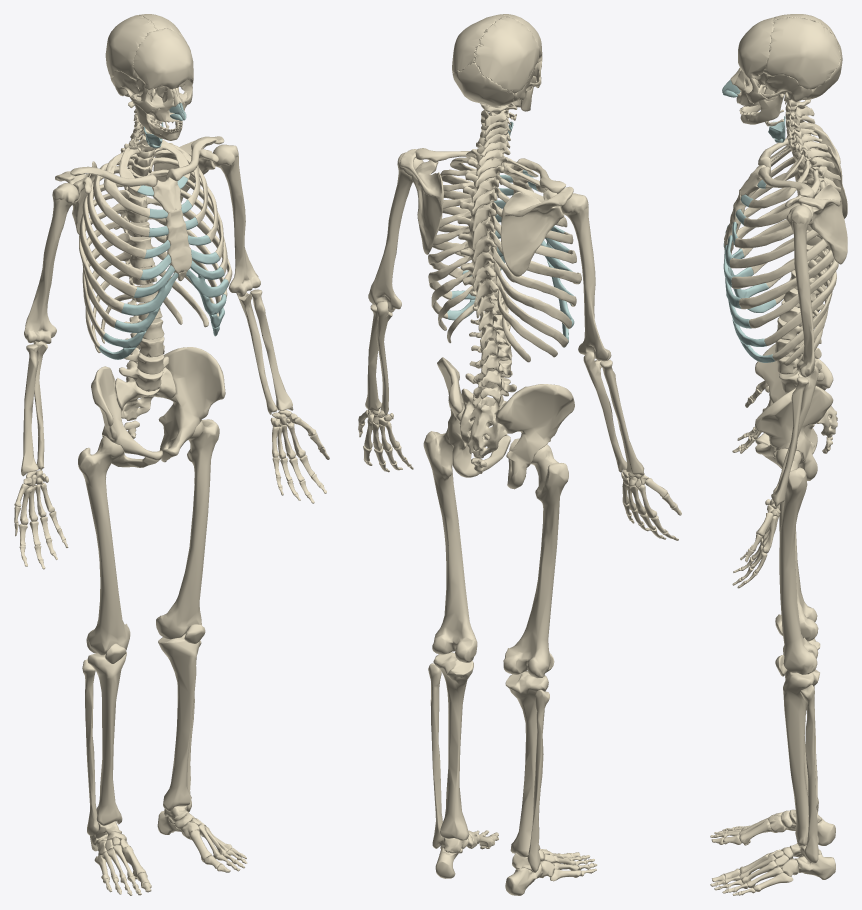
Rendered from skeleton.glb.
3 renders of one model, left to right at view 1: azimuth 30°, elevation 25°; view 2: azimuth 150°, elevation 25°; view 3: azimuth 270°, elevation 25°, orthographic. The views are drawn at different scales.
Visible parts, largest first — view 1: femur-right, femur-left, hip-bone-left, tibia-left, frontal-bone, tibia-right, humerus-right, humerus-left, hip-bone-right, parietal-bone-right, sacrum, fibula-right (+19 smaller); view 2: femur-right, femur-left, hip-bone-right, scapula-right, parietal-bone-right, tibia-left, tibia-right, humerus-right, humerus-left, hip-bone-left, scapula-left, sacrum (+15 smaller); view 3: femur-left, parietal-bone-left, tibia-left, hip-bone-left, humerus-left, scapula-left, fibula-left, frontal-bone, hip-bone-right, radius-left, femur-right, seventh-rib-left (+28 smaller).
Boxes of the visible parts, x1,y1,x2,y2 form: femur-right: (78, 436, 130, 655); femur-left: (156, 419, 219, 639); hip-bone-left: (158, 347, 225, 462); tibia-left: (158, 633, 200, 811); frontal-bone: (133, 28, 193, 91); tibia-right: (87, 652, 126, 825); humerus-right: (24, 183, 78, 343); humerus-left: (212, 144, 260, 296); hip-bone-right: (91, 366, 162, 467); parietal-bone-right: (105, 15, 157, 79); sacrum: (115, 367, 175, 420); fibula-right: (82, 659, 98, 835); femur-right: (503, 444, 568, 678); femur-left: (423, 427, 477, 662); hip-bone-right: (495, 384, 574, 489); scapula-right: (500, 186, 573, 276); parietal-bone-right: (474, 16, 539, 93); tibia-left: (433, 652, 473, 840); tibia-right: (505, 671, 548, 857); humerus-right: (561, 193, 611, 361); humerus-left: (368, 152, 423, 312); hip-bone-left: (437, 357, 510, 477); scapula-left: (400, 149, 443, 254); sacrum: (459, 388, 507, 458); femur-left: (775, 448, 818, 674); parietal-bone-left: (763, 17, 840, 89); tibia-left: (783, 669, 819, 846); hip-bone-left: (755, 386, 833, 480); humerus-left: (786, 205, 815, 377); scapula-left: (785, 183, 847, 264); fibula-left: (800, 684, 818, 863); frontal-bone: (738, 17, 774, 78); hip-bone-right: (755, 344, 833, 453); radius-left: (771, 377, 808, 506); femur-right: (779, 470, 818, 641); seventh-rib-left: (739, 249, 834, 309).
Bounding box in the file's own units: 0.6693 × 1.7 × 0.2501.
